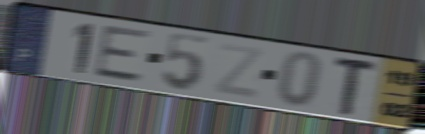0: (272, 50, 327, 110)
1: (72, 22, 94, 75)
5: (160, 30, 214, 93)
E: (91, 24, 154, 85)
T: (332, 57, 380, 118)
Z: (211, 41, 267, 102)
